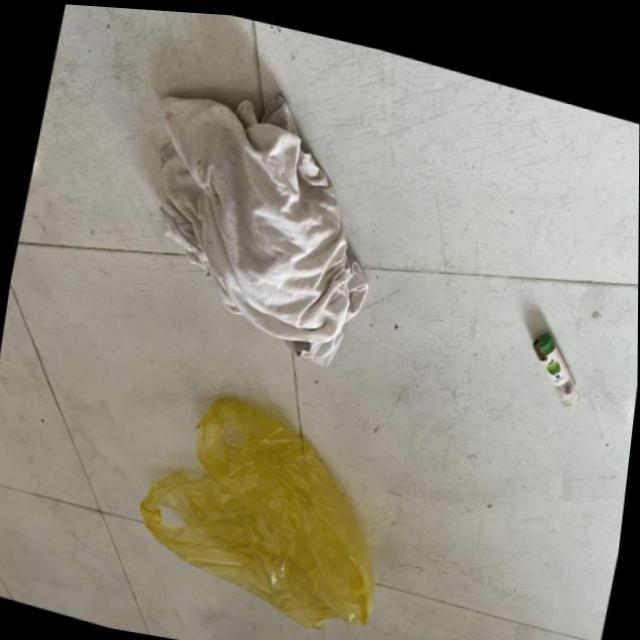leaf: (513, 295, 595, 407)
metal: (109, 355, 413, 640)
plastic: (98, 40, 436, 379)
